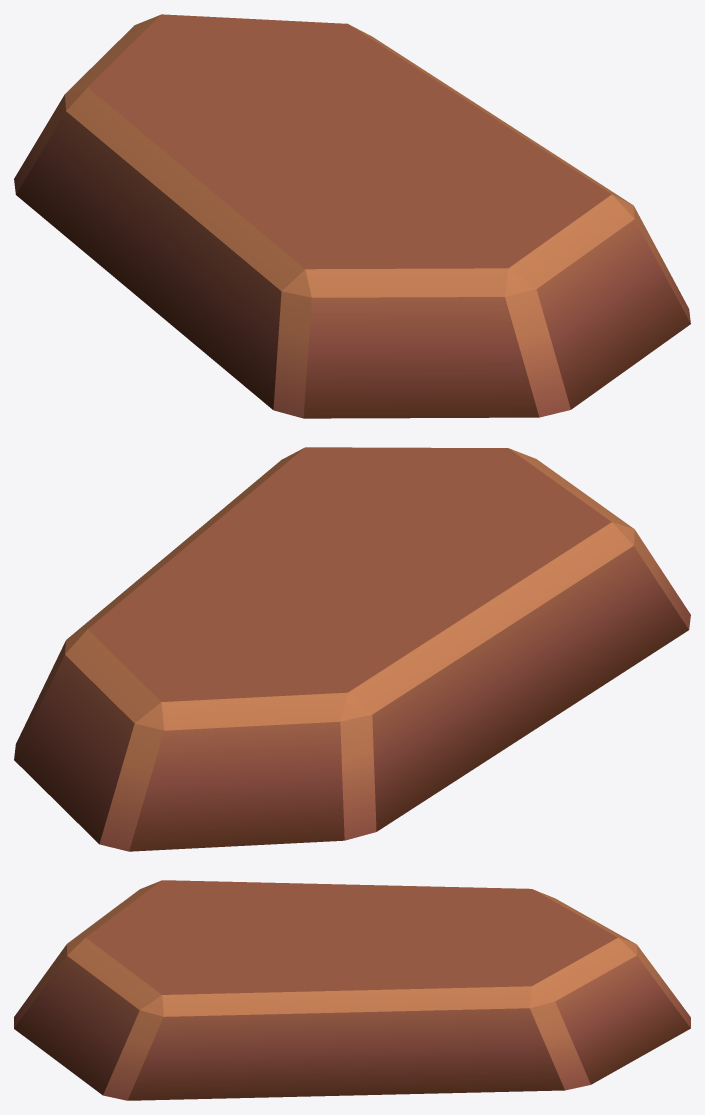
Rendered from Roadstones-2-1.fbx.
3 renders of one model, top to bottom at view 1: azimuth 30°, elevation 25°; view 2: azimuth 150°, elevation 25°; view 3: azimuth 270°, elevation 25°, orthographic. The views are drawn at different scales.
Parts seen in each view (by area): view 1: Roadstones-2-1; view 2: Roadstones-2-1; view 3: Roadstones-2-1.
Part boxes in pixels (x1,y1,x2,y2): Roadstones-2-1: (14,14,690,418); Roadstones-2-1: (14,447,690,851); Roadstones-2-1: (14,880,690,1100).
Size of the model in its own units: 70.46 by 18.02 by 129.
